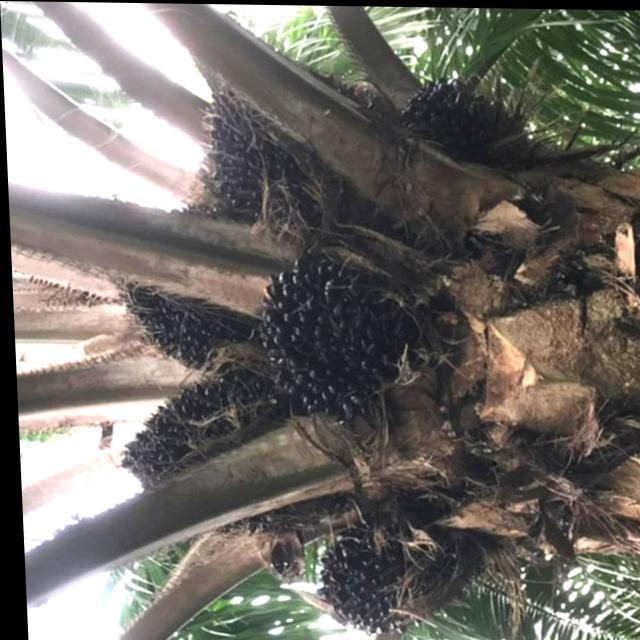almost: (246, 245, 424, 422)
